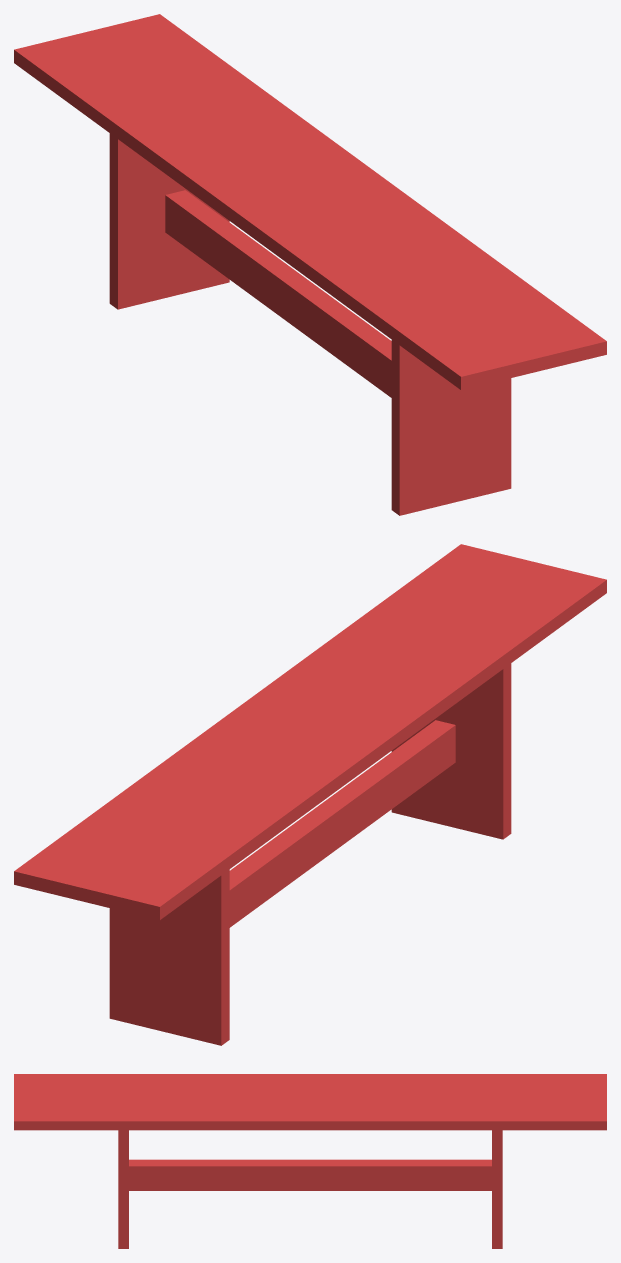
Rendered from Bench_COL.fbx.
The picture shows the model from 3 angles, top to bottom: view 1: azimuth 30°, elevation 25°; view 2: azimuth 150°, elevation 25°; view 3: azimuth 270°, elevation 25°; orthographic projection. The views are drawn at different scales.
Visible parts, largest first — view 1: Bench_COL; view 2: Bench_COL; view 3: Bench_COL.
Part boxes in pixels (bbox=[...]): Bench_COL: bbox=[14, 14, 606, 515]; Bench_COL: bbox=[14, 544, 606, 1045]; Bench_COL: bbox=[14, 1074, 606, 1248].
Bounding box in the file's own units: 35.82 × 47.09 × 190.
